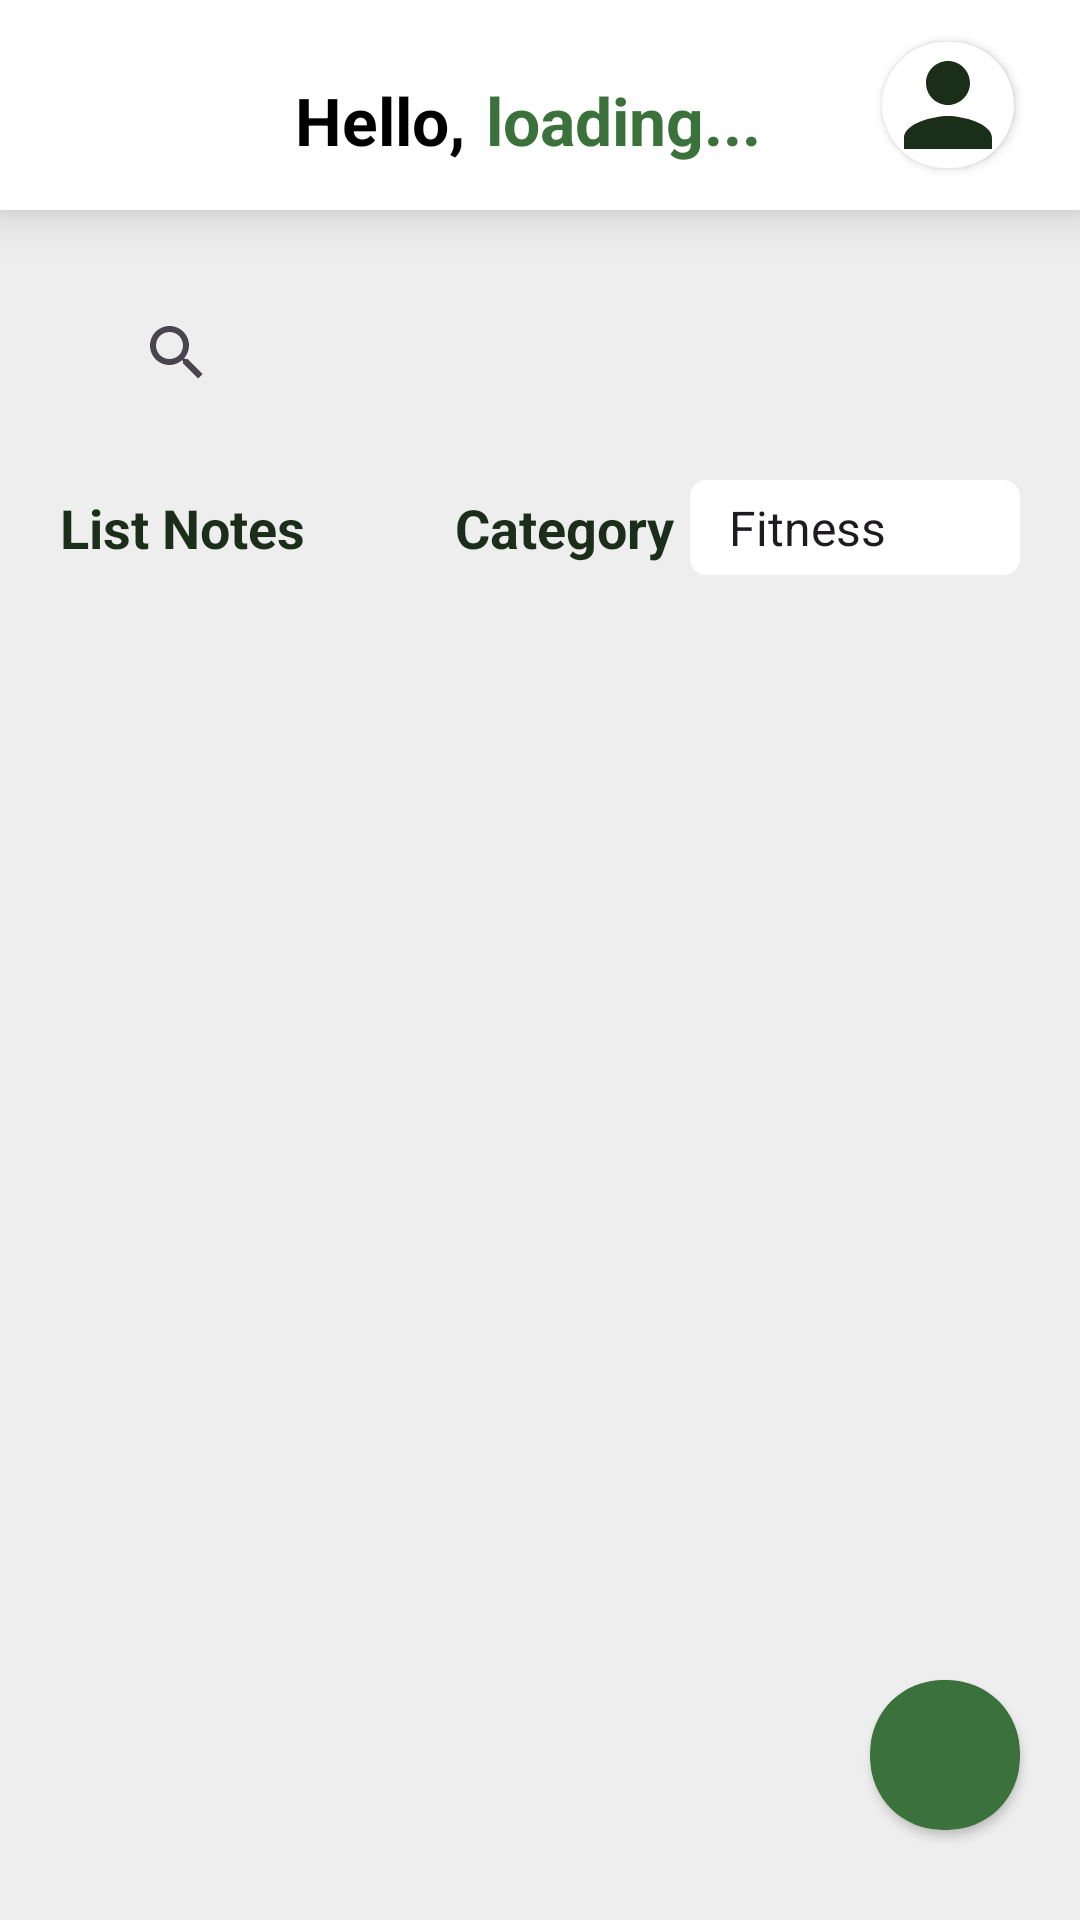

Screen size 1080*1920. Icon name, then its center in pixels as [x,y]:
Profile Picture: [959,105]
